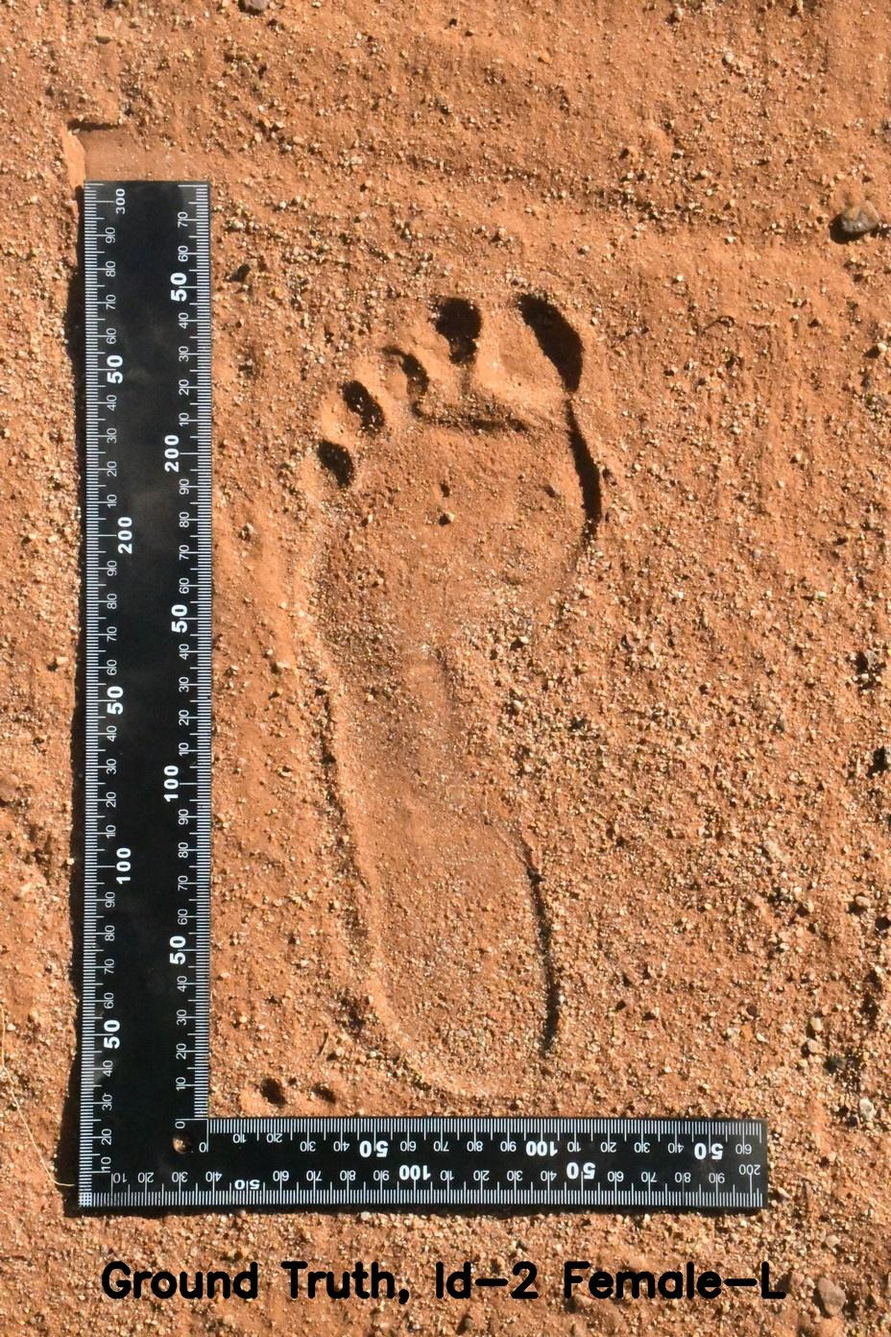human_footprint: (256, 254, 628, 1110)
